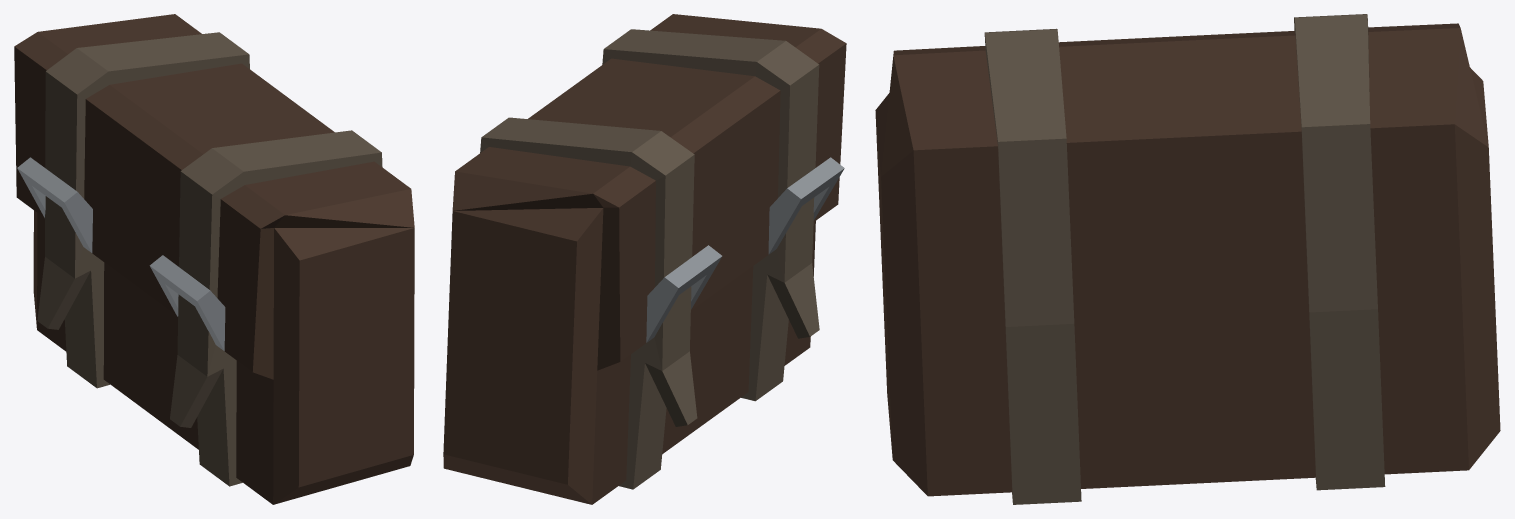
Rendered from Chr_HipsAttachment_06_Static.fbx.
The picture shows the model from 3 angles, left to right: view 1: azimuth 30°, elevation 25°; view 2: azimuth 150°, elevation 25°; view 3: azimuth 270°, elevation 25°; orthographic projection. The views are drawn at different scales.
Visible parts, largest first — view 1: Chr_HipsAttachment_06_Static; view 2: Chr_HipsAttachment_06_Static; view 3: Chr_HipsAttachment_06_Static.
Part boxes in pixels (box(x1,y1,x2,y2)): Chr_HipsAttachment_06_Static: box(14, 14, 414, 504); Chr_HipsAttachment_06_Static: box(443, 14, 846, 504); Chr_HipsAttachment_06_Static: box(875, 14, 1500, 504).
Bounding box in the file's own units: 0.1048 × 0.1547 × 0.2184.
